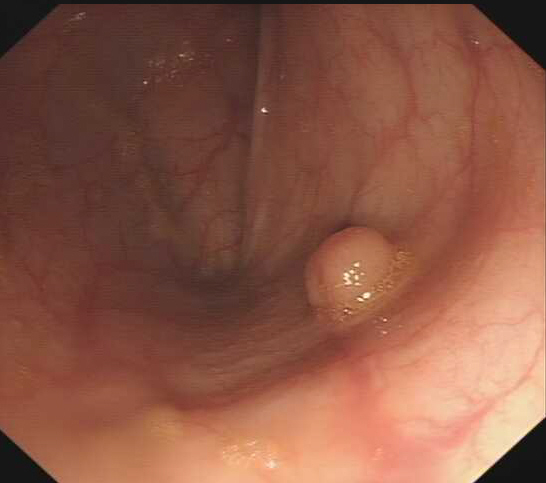adenoma: (299, 223, 396, 314)
